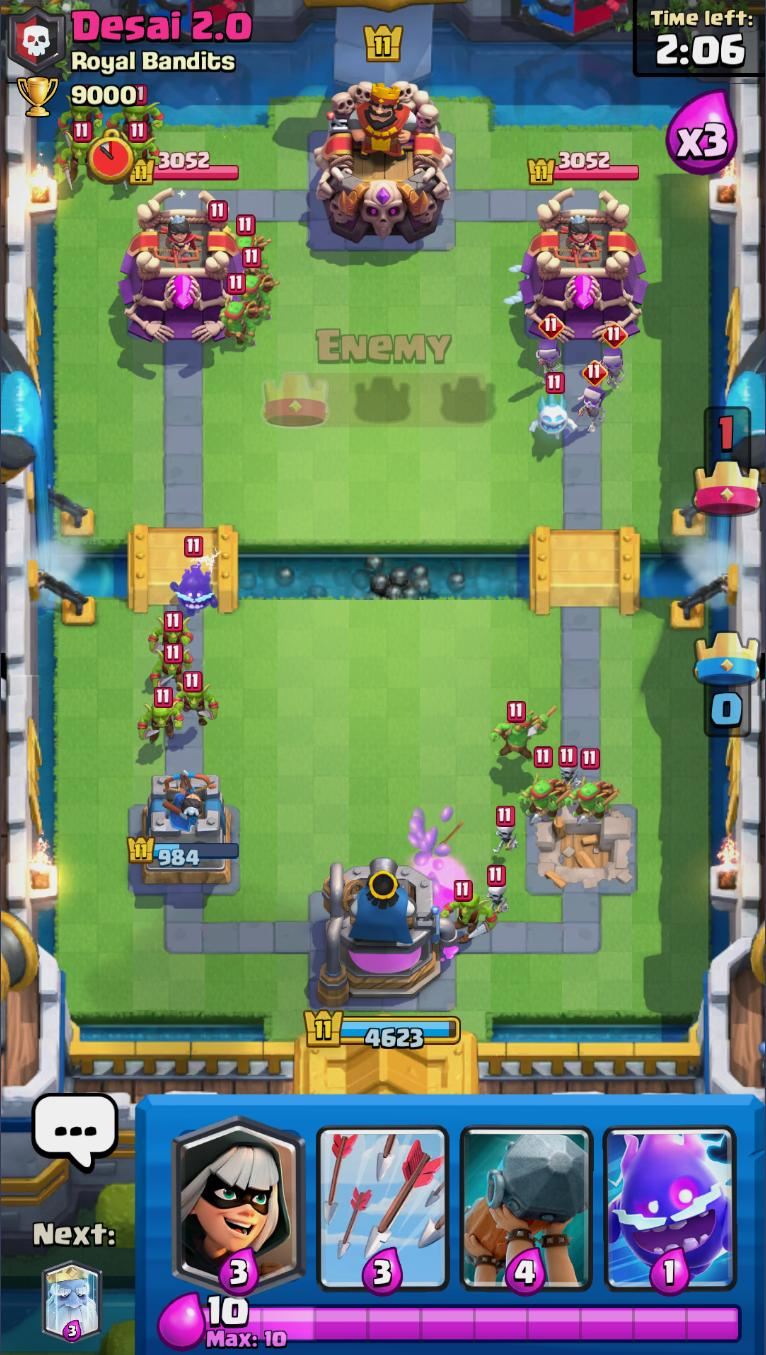ArrowDeck: (308, 1098, 457, 1292)
BanditDeck: (165, 1096, 313, 1295)
BattleRamDeck: (453, 1098, 600, 1292)
ElectroSpirit: (165, 538, 221, 611)
ElectroSpiritDeck: (598, 1098, 745, 1292)
Elixir: (206, 1292, 251, 1330)
EnemyTower: (518, 186, 650, 344), (121, 187, 249, 342)
EvoSkeleton: (530, 313, 568, 384), (575, 364, 610, 435), (598, 325, 631, 390)
Goblin: (445, 879, 489, 941), (117, 83, 165, 139), (60, 121, 99, 188), (174, 673, 218, 730), (139, 689, 183, 744), (149, 611, 194, 661), (63, 84, 105, 135), (120, 119, 158, 174), (149, 646, 195, 686)
IceSpirit: (530, 375, 578, 445)
KingTower: (309, 78, 456, 245)
MyKingHP: (302, 1006, 460, 1053)
MyKingTower: (314, 860, 460, 1009)
MyPrincessTower: (129, 771, 243, 891)
MyPrincessTowerBrocken: (529, 795, 643, 892)
MyPrincessTowerHP: (127, 837, 240, 865)
PrincessTower: (553, 214, 606, 269), (157, 213, 203, 267)
RoyaleGhostNext: (41, 1255, 103, 1344)
Skeleton: (488, 805, 525, 858), (482, 865, 512, 925), (556, 743, 579, 784)
SpearGoblin: (520, 749, 568, 824), (568, 749, 615, 824), (494, 700, 541, 774), (235, 248, 279, 321), (216, 279, 258, 346), (230, 218, 276, 274)
TowerPrincessHP: (126, 151, 243, 186), (529, 151, 640, 186)
